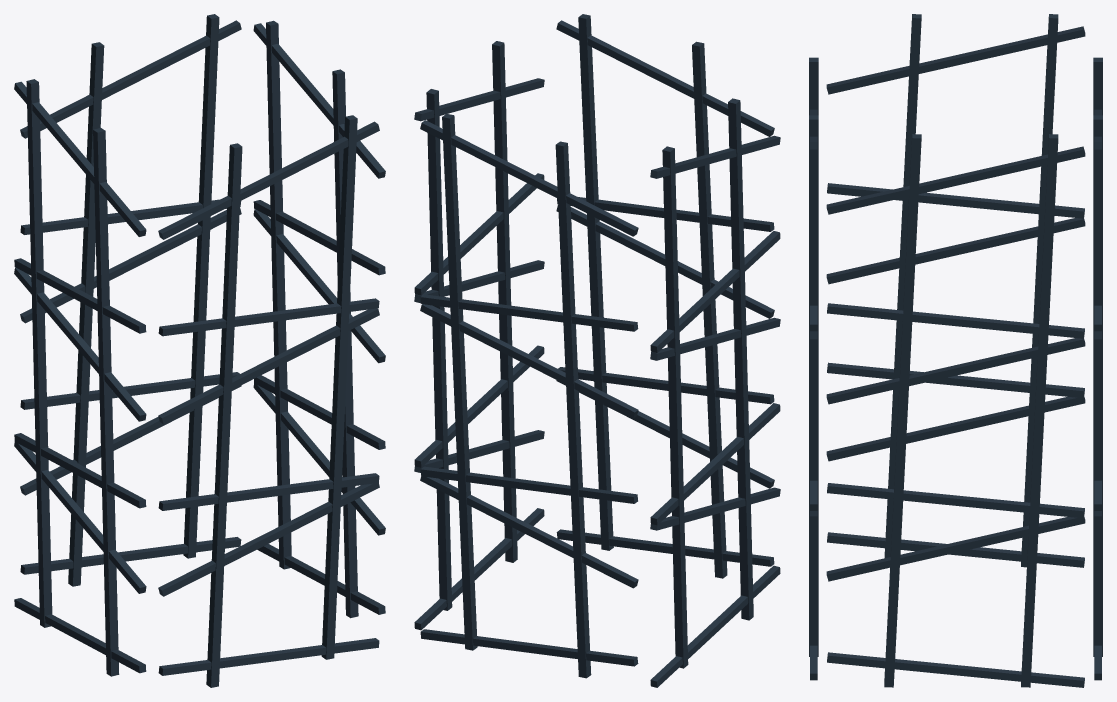
The model's file is CMU3DHiveXenoWeedsWall.glb.
The picture shows the model from 3 angles, left to right: view 1: azimuth 30°, elevation 25°; view 2: azimuth 150°, elevation 25°; view 3: azimuth 270°, elevation 25°; orthographic projection. The views are drawn at different scales.
Parts seen in each view (by area): view 1: climbing wall root (×8), branching wall web (×24); view 2: climbing wall root (×8), branching wall web (×24); view 3: branching wall web (×12), climbing wall root (×8).
Part boxes in pixels (x1=…): climbing wall root (×8): x1=26, y1=14, x2=358, y2=687; branching wall web (×24): x1=14, y1=20, x2=385, y2=675; climbing wall root (×8): x1=426, y1=14, x2=753, y2=678; branching wall web (×24): x1=414, y1=20, x2=780, y2=687; branching wall web (×12): x1=826, y1=26, x2=1085, y2=687; climbing wall root (×8): x1=809, y1=14, x2=1102, y2=687.
Bounding box in the file's own units: 1.05 × 2.17 × 1.05.
